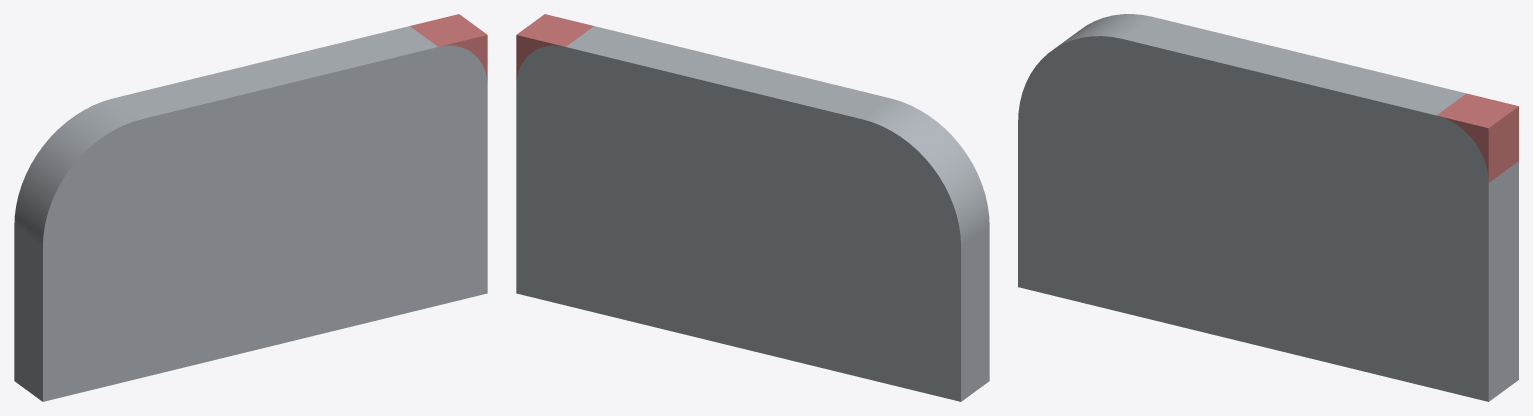
Rendered from step_03.glb.
The picture shows the model from 3 angles, left to right: view 1: azimuth 30°, elevation 25°; view 2: azimuth 150°, elevation 25°; view 3: azimuth 330°, elevation 25°; orthographic projection. The views are drawn at different scales.
Parts seen in each view (by area): view 1: part__vee notch plate, removed__vee notch plate; view 2: part__vee notch plate, removed__vee notch plate; view 3: part__vee notch plate, removed__vee notch plate.
Part boxes in pixels (left/top/right/bottom): part__vee notch plate: left=14, top=26, right=487, bottom=401; removed__vee notch plate: left=410, top=14, right=487, bottom=82; part__vee notch plate: left=516, top=26, right=989, bottom=401; removed__vee notch plate: left=516, top=14, right=593, bottom=82; part__vee notch plate: left=1018, top=14, right=1518, bottom=401; removed__vee notch plate: left=1437, top=93, right=1518, bottom=182.
Size of the model in its own units: 90 by 50 by 10.
